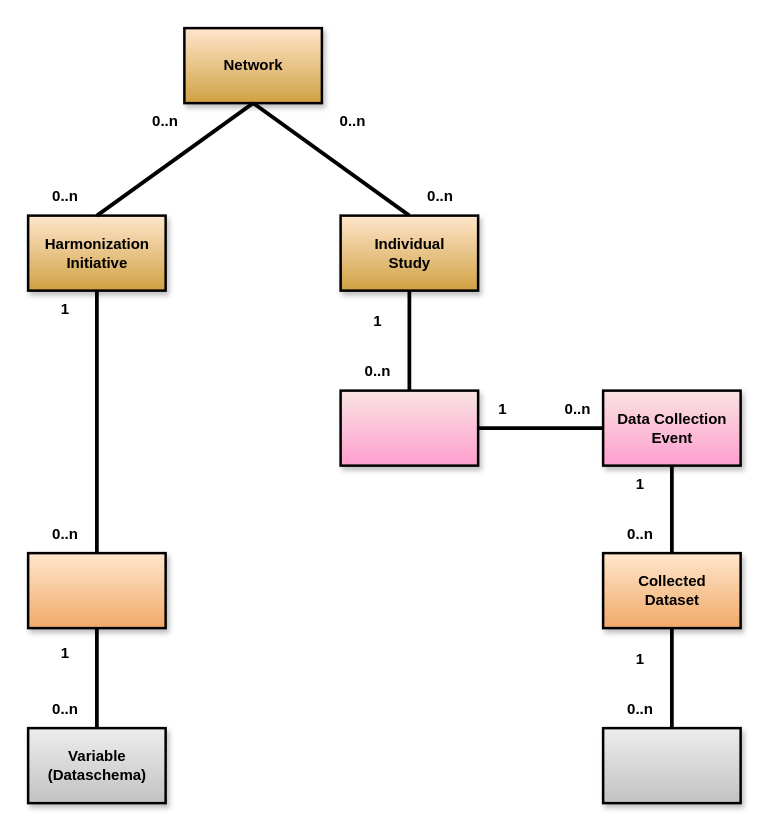
The diagram is 770 pixels wide and 834 high, and some of its shapes have lost their labels. Each missing label, with the centre of its shape:
Harmonization Protocol: point 97,592
Population: point 410,429
Variable (Individual Study): point 672,766
